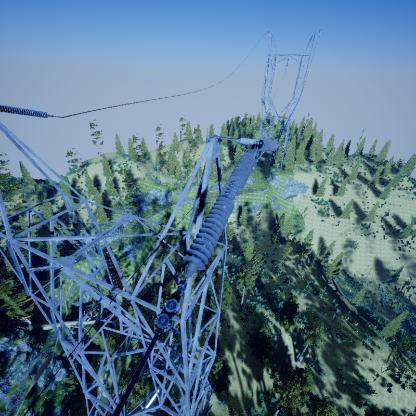insulator: (182, 149, 256, 279), (0, 101, 54, 121)
tower: (251, 28, 322, 174)
